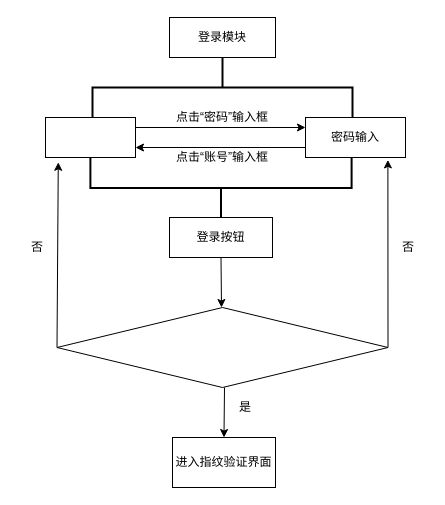
Some shapes in this 445 by 505 pixel diagram are drawn without their labels. The shapes that lost their labels are listed below. From the top down, each one's centre as x and y in pixels, then its label:
At (90,137): "账号输入".
At (222,347): "判断是否已经存在该用户和其密码是否正确".
